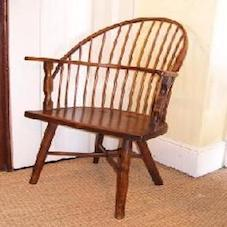chair: (14, 5, 191, 219)
